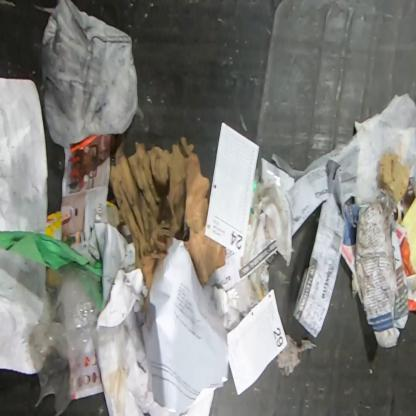soft_plastic: (29, 266, 99, 415)
